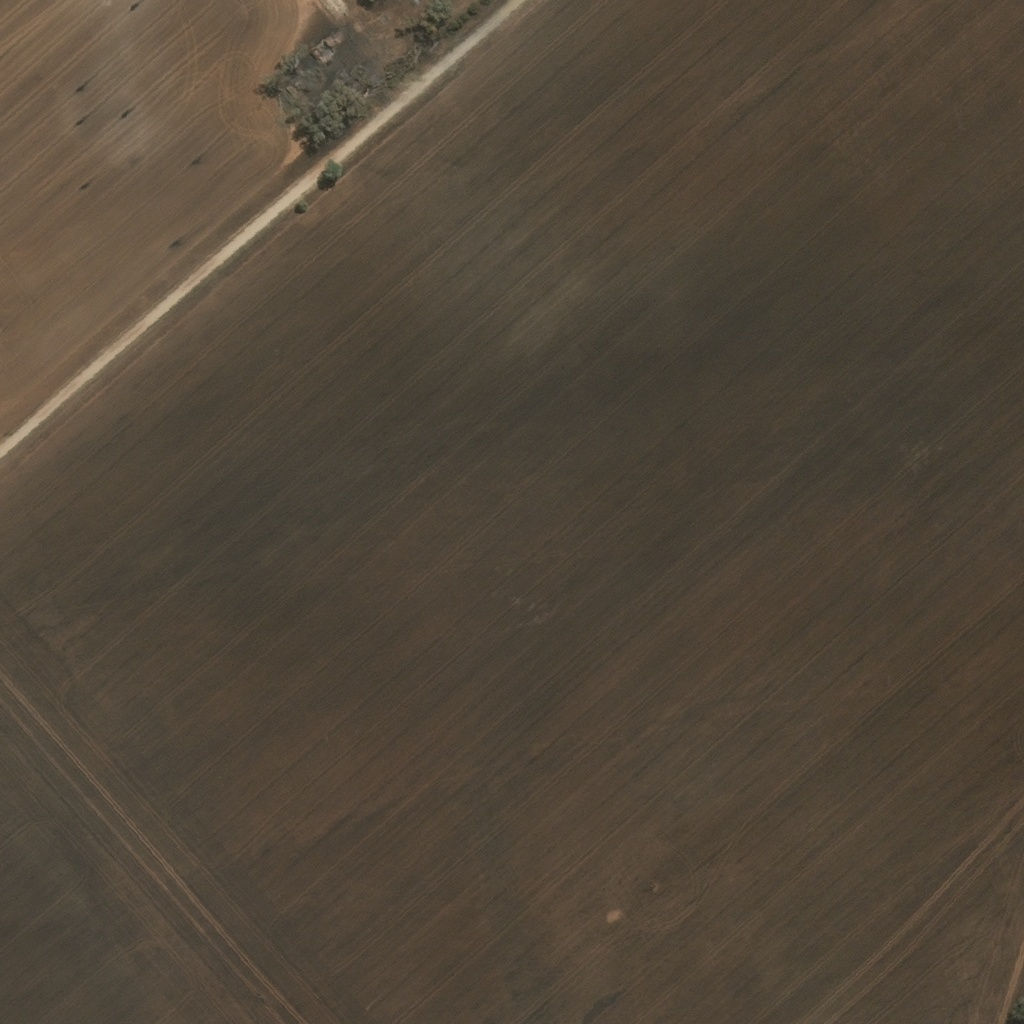3 destroyed: (311, 29, 343, 62)
